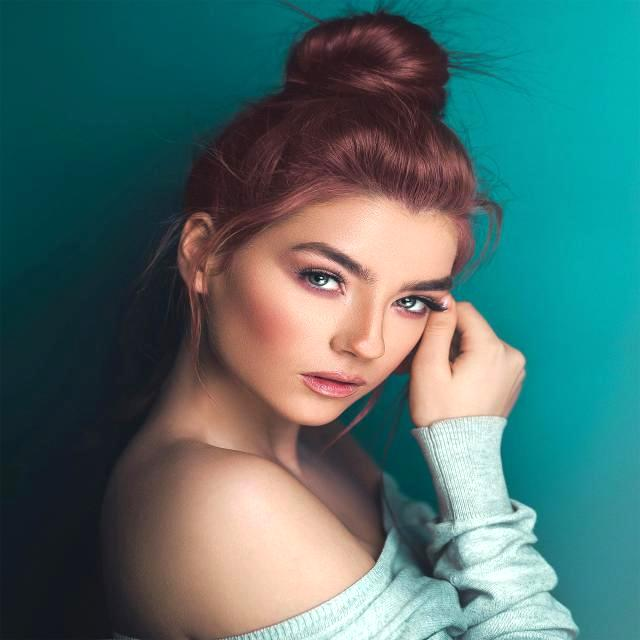no_head_wear: (185, 9, 501, 274)
person: (102, 10, 577, 640)
